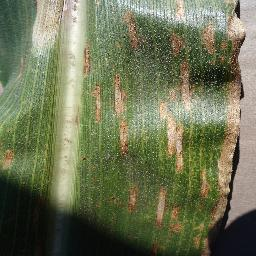Gray_Leaf_Spot: (201, 0, 244, 233), (105, 182, 201, 256), (27, 0, 79, 57), (175, 62, 196, 169), (111, 71, 133, 157), (118, 4, 145, 50), (158, 87, 175, 159), (91, 80, 106, 125), (0, 144, 17, 176), (168, 31, 188, 58), (81, 41, 93, 80), (170, 0, 186, 25), (201, 231, 215, 256), (16, 51, 27, 82), (70, 108, 82, 129), (58, 152, 73, 164), (60, 136, 75, 145)
